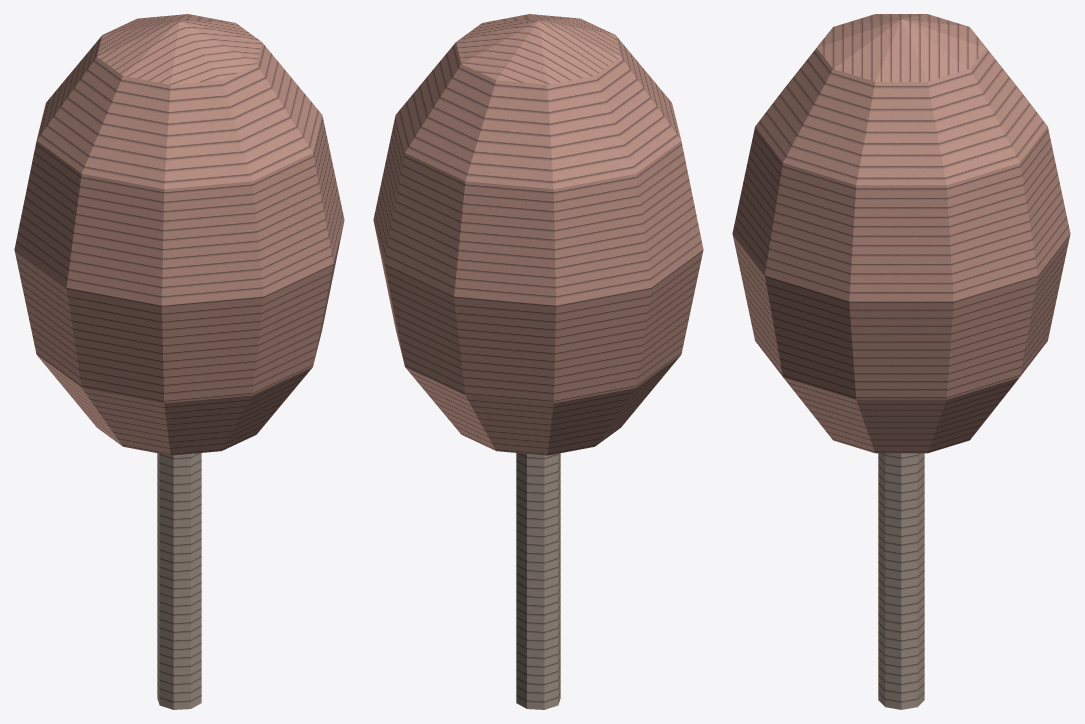
The model's file is tree_black_walnut.glb.
The picture shows the model from 3 angles, left to right: view 1: azimuth 30°, elevation 25°; view 2: azimuth 150°, elevation 25°; view 3: azimuth 270°, elevation 25°; orthographic projection.
Visible parts, largest first — view 1: tree_black_walnut-col; view 2: tree_black_walnut-col; view 3: tree_black_walnut-col.
Boxes of the visible parts, box(x1,y1,x2,y2) form: tree_black_walnut-col: box(14, 14, 344, 709); tree_black_walnut-col: box(373, 14, 703, 709); tree_black_walnut-col: box(732, 14, 1070, 709).
Size of the model in its own units: 4.18 by 9.78 by 4.4.
Materials: 2 (2 with a texture image).
